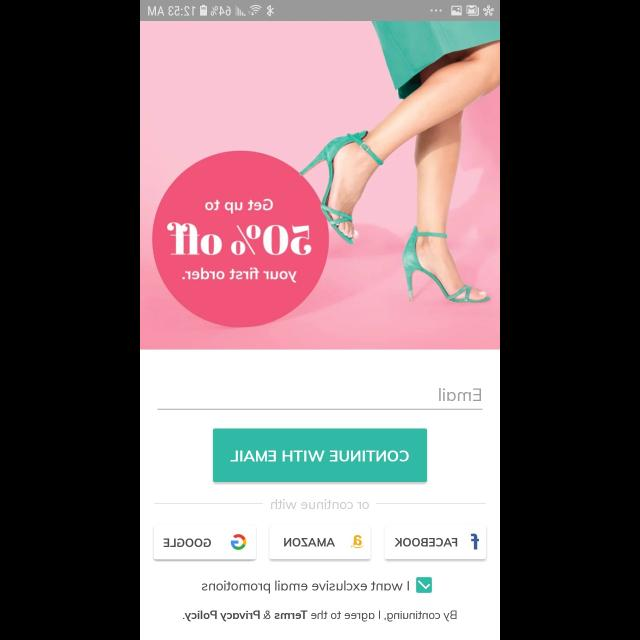checkbox: (416, 578, 432, 592)
image: (140, 22, 500, 350)
input: (158, 388, 482, 410)
text: (166, 224, 312, 256), (183, 610, 457, 622), (202, 580, 408, 594), (182, 267, 298, 283), (204, 198, 274, 214), (271, 498, 369, 509), (438, 388, 482, 402)
textbutton: (213, 429, 427, 483), (384, 524, 486, 560), (269, 524, 371, 560), (154, 524, 256, 560)
uppertaskbar: (140, 1, 500, 22)
